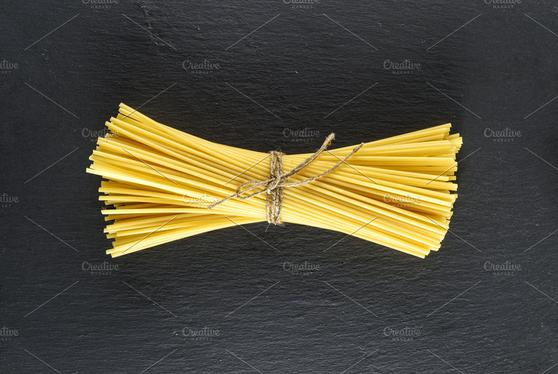spaghetti: (96, 96, 462, 258)
